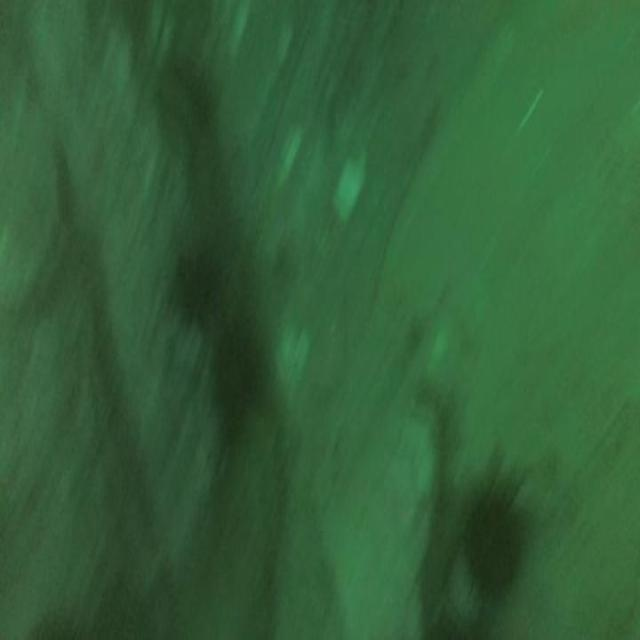echinus: (455, 469, 525, 615), (211, 332, 264, 439), (174, 238, 219, 326)
